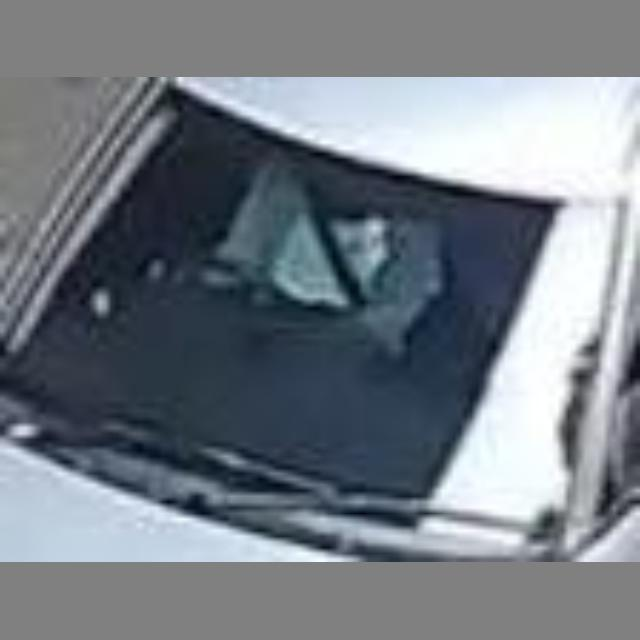pakai: (137, 146, 423, 380)
